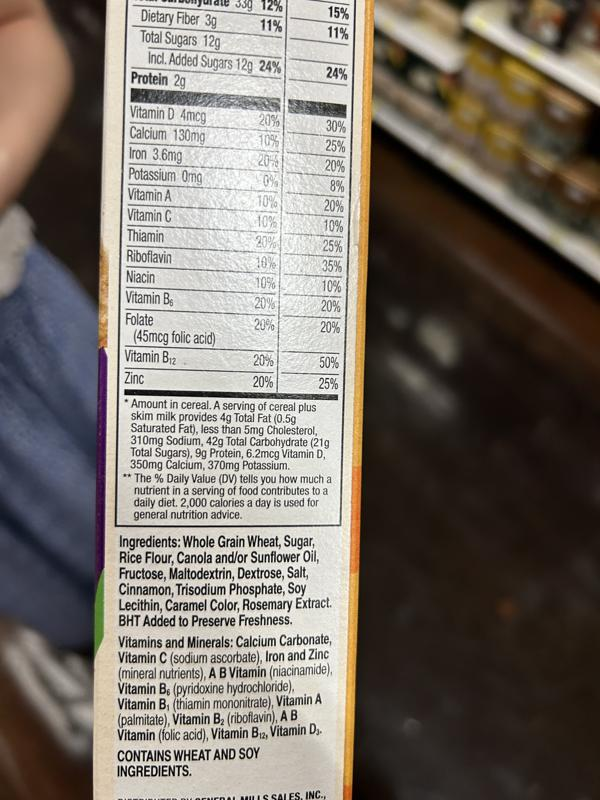ingredients: (116, 532, 334, 630)
